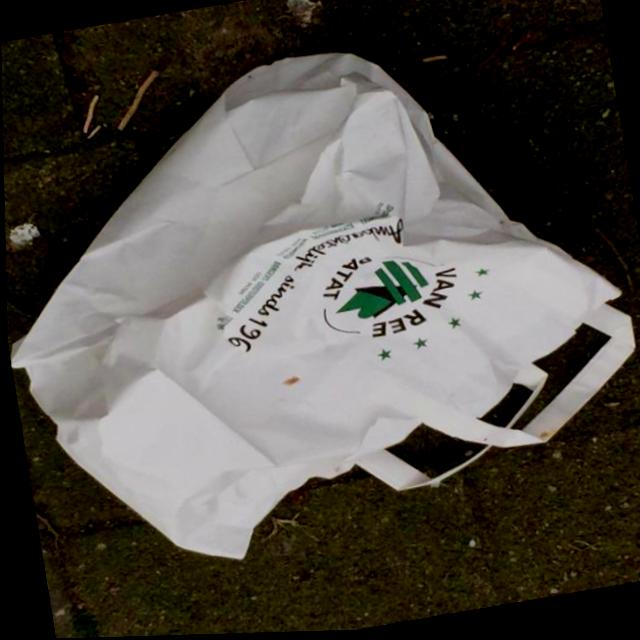Paper: (0, 4, 640, 599)
